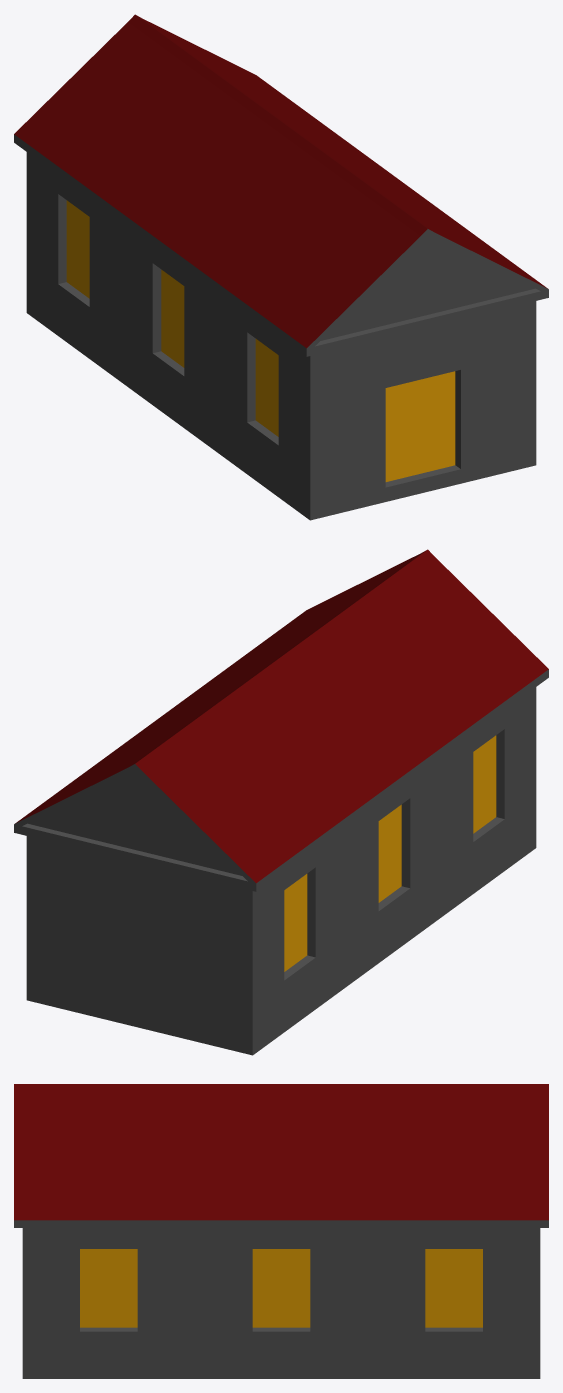
File: bungalow.fbx
3 views of the same model, one above another, from view 1: azimuth 30°, elevation 25°; view 2: azimuth 150°, elevation 25°; view 3: azimuth 270°, elevation 25° (orthographic). The views are drawn at different scales.
Visible parts, largest first — view 1: Cube; view 2: Cube; view 3: Cube.
Boxes of the visible parts, bbox=[...] form: Cube: bbox=[14, 14, 548, 520]; Cube: bbox=[14, 549, 548, 1055]; Cube: bbox=[14, 1084, 548, 1378].
Size of the model in its own units: 300 by 317 by 628.
